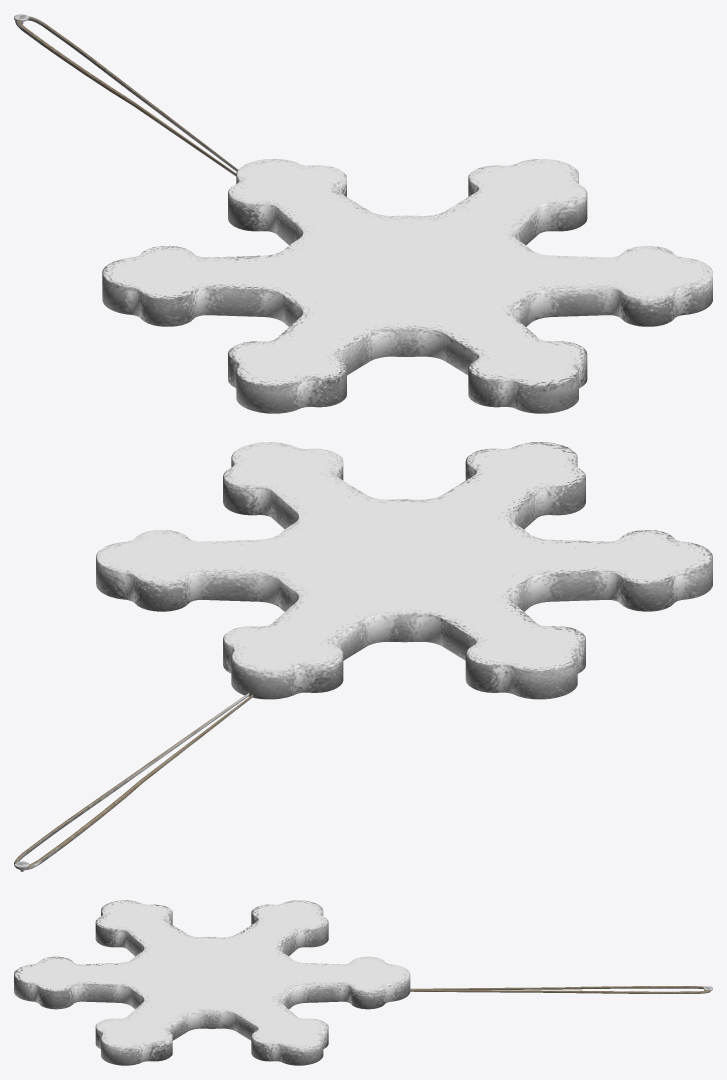
File: snowflakesmall.gltf
3 renders of one model, top to bottom at view 1: azimuth 30°, elevation 25°; view 2: azimuth 150°, elevation 25°; view 3: azimuth 270°, elevation 25°, orthographic. The views are drawn at different scales.
Visible parts, largest first — view 1: small flake; view 2: small flake; view 3: small flake.
Part boxes in pixels (x1,y1,x2,y2): small flake: (14,14,712,413); small flake: (14,442,712,871); small flake: (14,900,712,1065).
Bounding box in the file's own units: 0.1963 × 0.0122 × 0.3921.
1 material, 1 textured.
